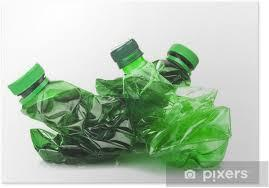plastic: (12, 38, 236, 167)
